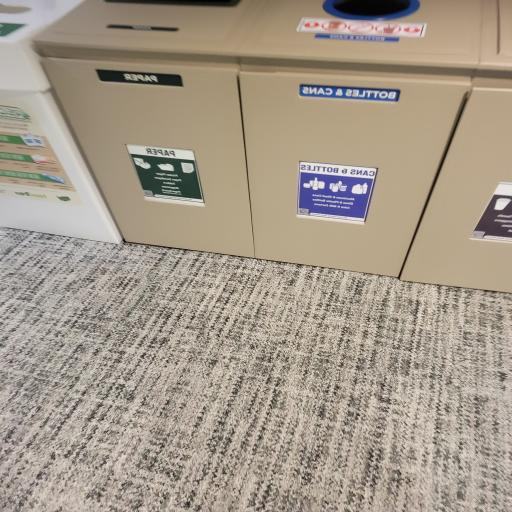can and bottle trash cans: (262, 11, 482, 287)
paper trash can: (65, 3, 247, 270)
